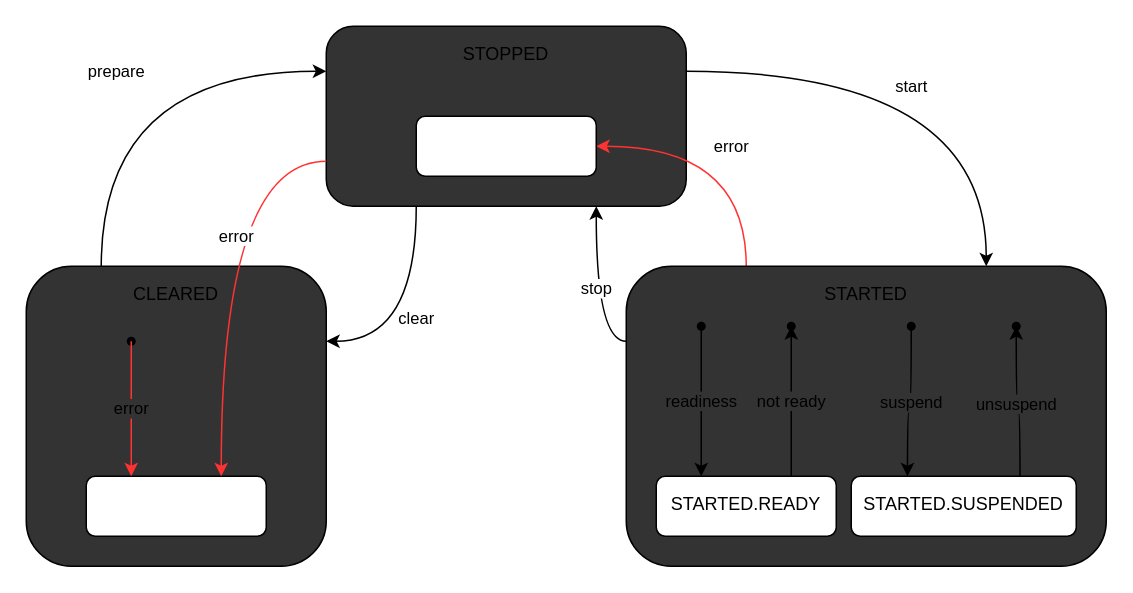
The diagram is 1133 pixels wide and 593 high, and some of its shapes have lost their labels. The shapes that lost their labels are listed below. From the top down, each one's centre as x and y in pixels, then its label:
At pixel 505 145: "STOPPED.ERROR".
At pixel 175 505: "CLEARED.ERROR".
